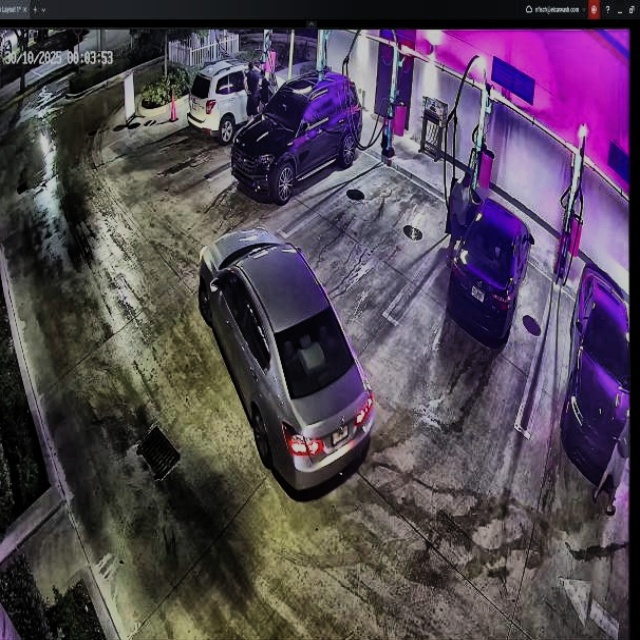Car: (197, 228, 371, 488), (233, 71, 362, 198), (454, 178, 533, 342), (188, 58, 296, 143)
